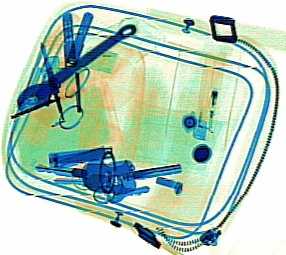lighter: (190, 51, 226, 139)
